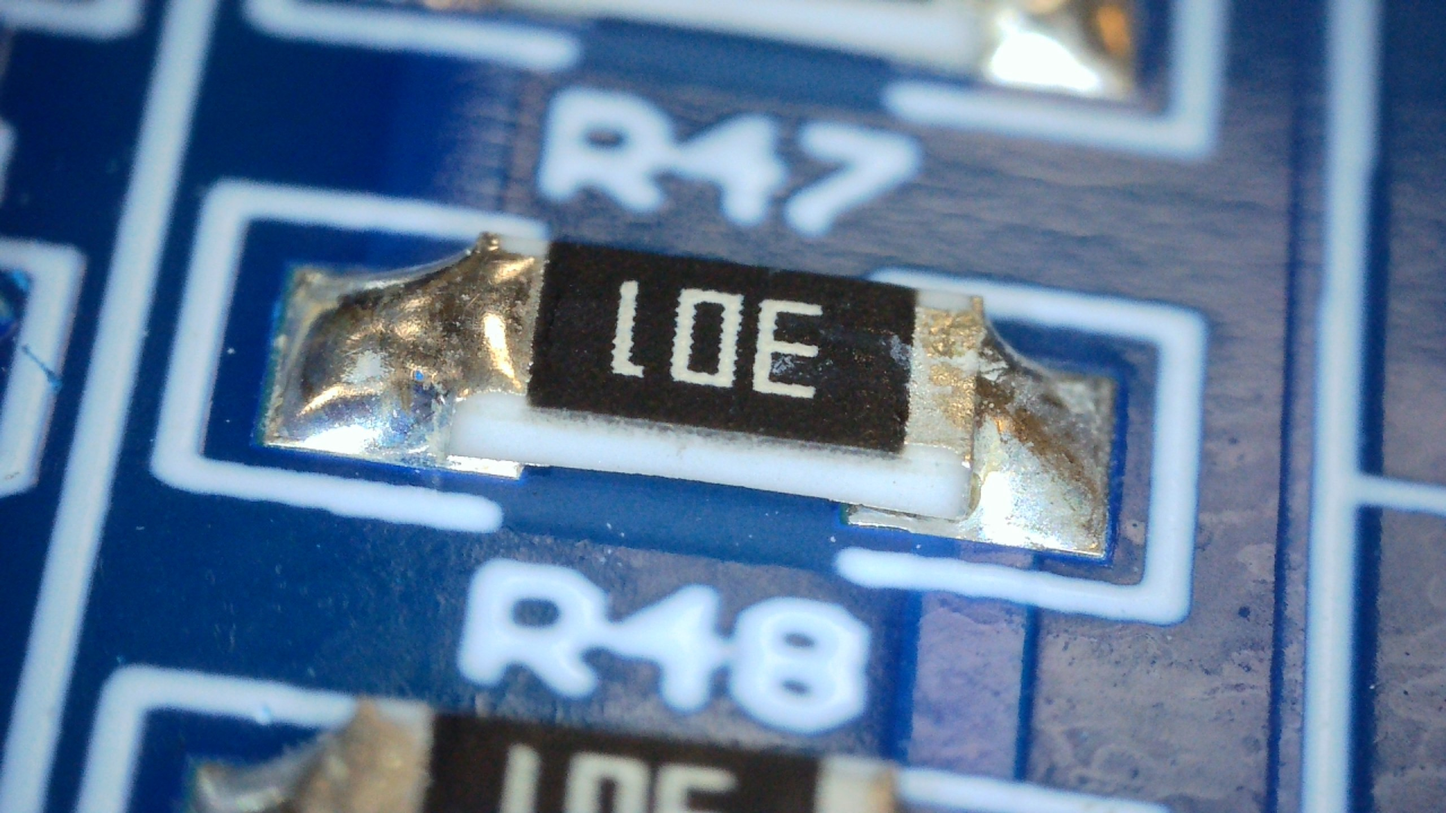OK: (263, 232, 548, 469), (899, 289, 1110, 555)
